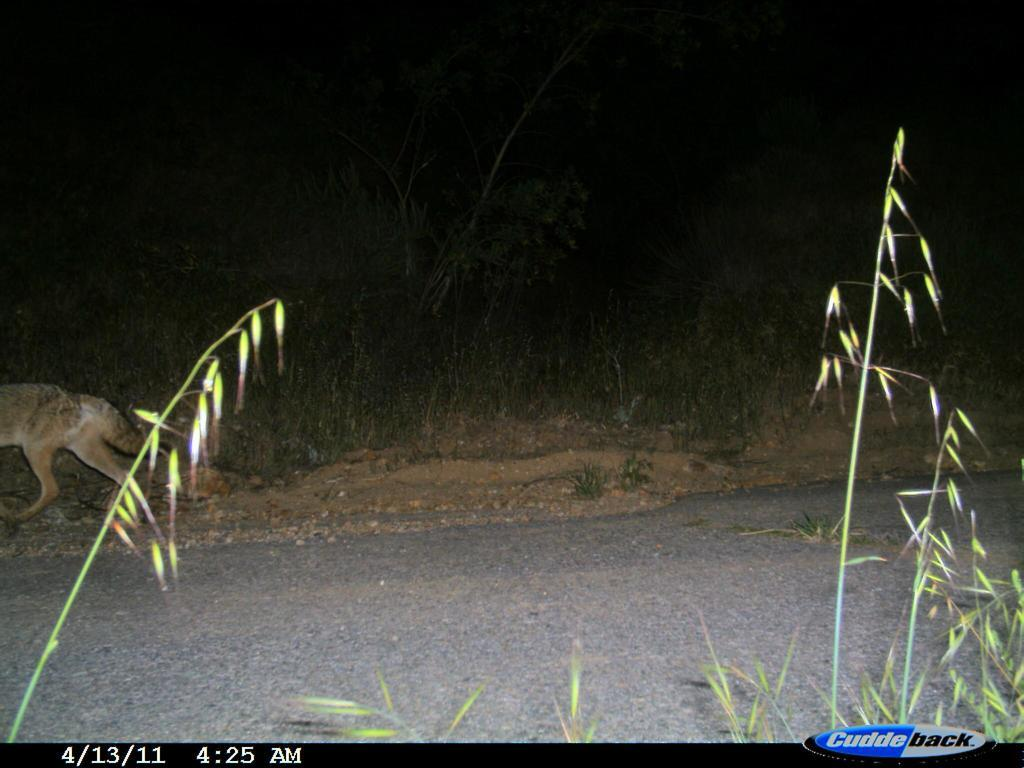coyote: (2, 379, 157, 533)
